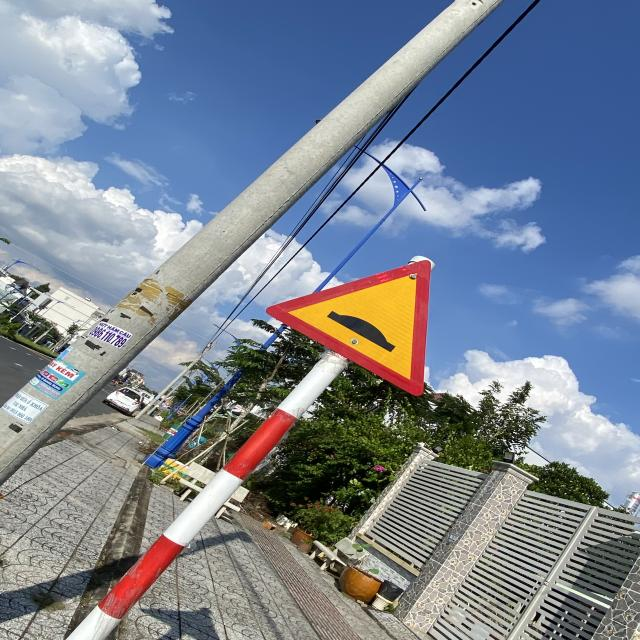Duong_Cong_Ben_Phai: (266, 259, 425, 398)
